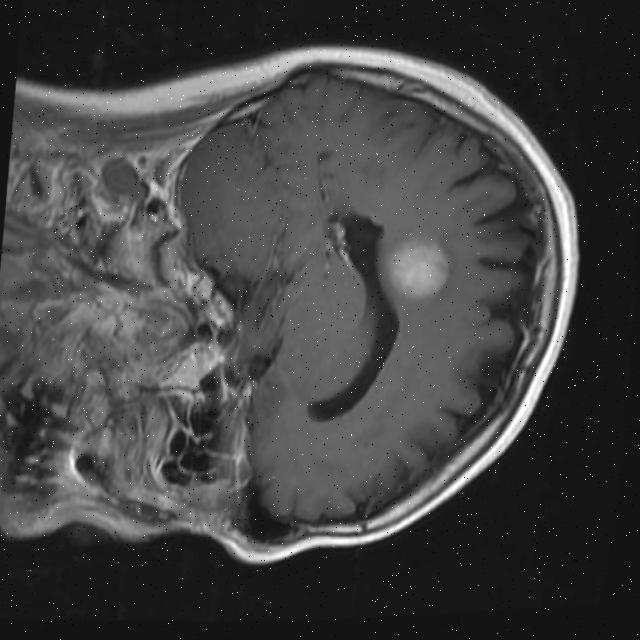Meningioma: (381, 230, 453, 307)
